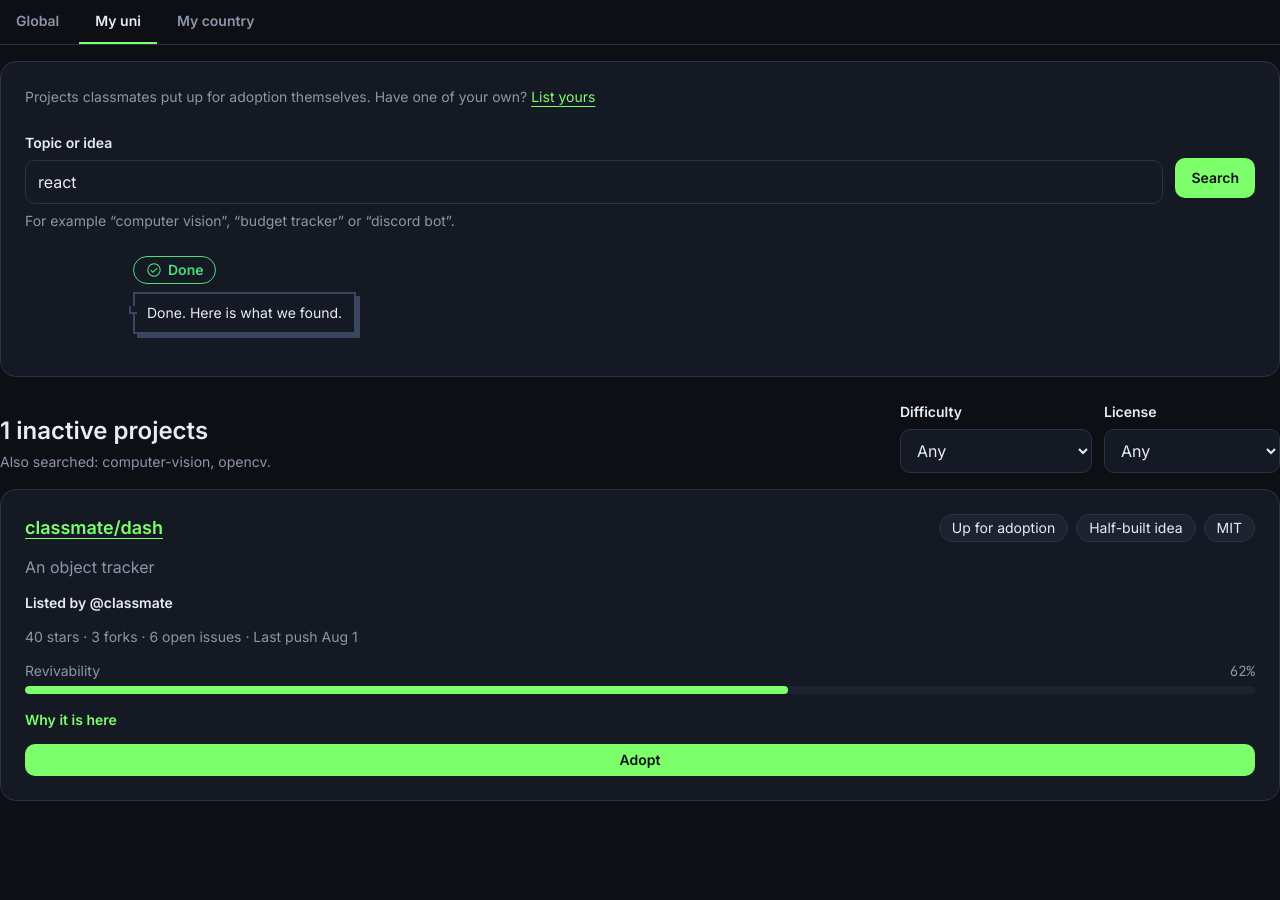
GraveyardTool › searches the university’s listings for verified members, and re-searches the topic when the tab changes
This screenshot has width=1280, height=900.
Expected: the number of elements with test id "graveyard-item" is 1, [0,489,1279,801]
Step 1. Press the mouse on the tab "Global" → x=38, y=22, box [0,0,75,44]
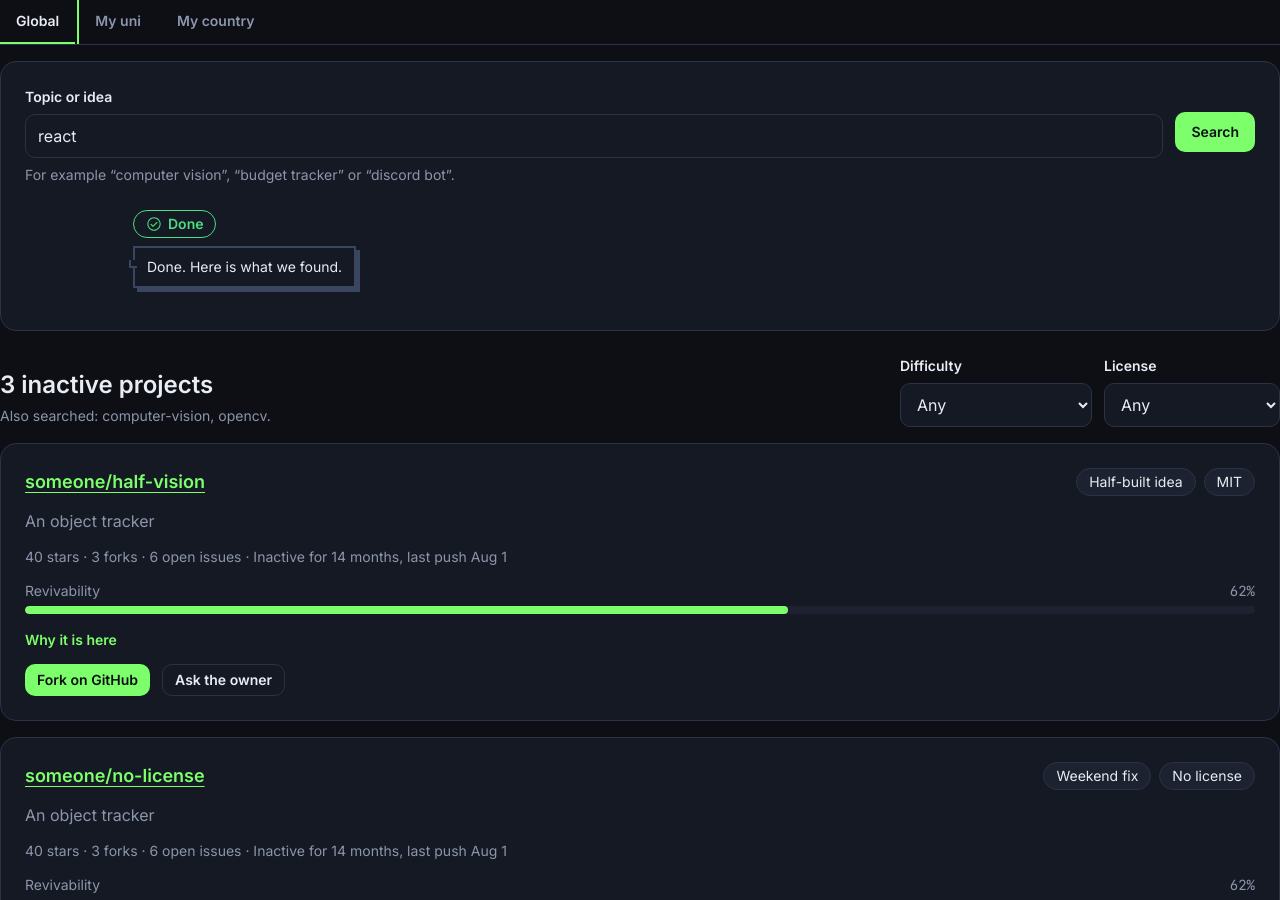
Result: the number of elements with test id "graveyard-item" is 3
